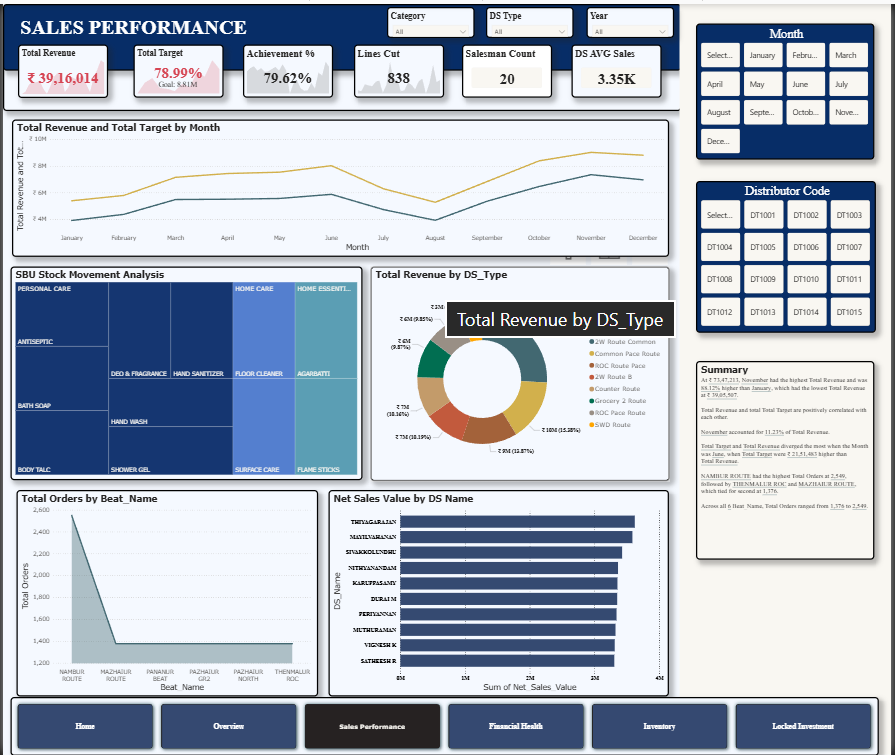

Layout of this report page (visuals, bound fields, positions):
{"tool":"powerbi","page":{"name":"Sales Performance","canvas":[1890,1600],"ordinal":2},"visuals":[{"type":"textbox","box":[0,60,1445,167.5],"z":0},{"type":"shape","box":[0,0,1445,142.2],"z":1000,"group":"g1"},{"type":"textbox","box":[1441.8,0,453.1,1599.1],"z":1000,"group":"g2"},{"type":"treemap","title":"SBU Stock Movement Analysis","fields":{"Group":["Products.SBU","Products.SKU_Name"],"Details":["Products.Sub_Category"],"Values":["Sum(Raw_Sales_Revenue.Net_Sales_Value)"]},"box":[15,560,750,455],"z":1000},{"type":"barChart","title":"Net Sales Value by DS Name","fields":{"Category":["Raw_Sales_Revenue.DS_Name"],"Y":["Sum(Raw_Sales_Revenue.Net_Sales_Value)"]},"box":[695,1035,725,440],"z":2000},{"type":"donutChart","fields":{"Category":["Raw_Sales_Revenue.DS_Type"],"Y":["_Measures.Total Revenue"]},"box":[782.5,560,637.5,457.5],"z":3000},{"type":"lineChart","fields":{"Y":["_Measures.Total Revenue","_Measures.Total Target"],"Category":["Dim_Date.Date.Variation.Date Hierarchy.Month"]},"box":[20,247.5,1400,292.5],"z":4000},{"type":"group","id":"g1","title":"Group 3","box":[0,0,1445,199.3],"z":5000},{"type":"areaChart","fields":{"Category":["Beat.Beat_Name"],"Y":["_Measures.Total Orders"]},"box":[30,1035,642.5,440],"z":6000},{"type":"group","id":"g2","title":"Group 2","box":[1441.8,0,453.1,1599.1],"z":7000},{"type":"advancedSlicerVisual","title":"Month","fields":{"Values":["Dim_Date.Date.Variation.Date Hierarchy.Month"]},"box":[1475.7,40,380,290],"z":8000,"group":"g2"},{"type":"textbox","title":"Summary","box":[1476.7,760,380,423.3],"z":8000},{"type":"slicer","title":"Category","fields":{"Values":["Products.Category"]},"box":[818,6,187,66],"z":9000},{"type":"advancedSlicerVisual","title":"Distributor Code","fields":{"Values":["Distirbutor.Distributor_Code"]},"box":[1475.7,376.7,383.3,323.3],"z":9000,"group":"g2"},{"type":"pageNavigator","box":[15,1475,1850,125],"z":10000},{"type":"slicer","title":"DS Type","fields":{"Values":["Salesman.DS_Type"]},"box":[1029.2,6,187,66],"z":11000},{"type":"slicer","title":"Year","fields":{"Values":["Dim_Date.Year"]},"box":[1244.7,6,187,66],"z":12000},{"type":"textbox","box":[30.8,19.2,523.1,65.4],"z":13000},{"type":"kpi","title":"Total Revenue","fields":{"Indicator":["_Measures.Total Revenue"],"TrendLine":["Dim_Date.Date"],"Goal":["_Measures.Total Target"]},"box":[30.9,85.3,192,114],"z":18002,"group":"g1"},{"type":"cardVisual","title":"Salesman Count","fields":{"Data":["_Measures.Total Salesman"]},"box":[978.4,85.4,191.7,113.2],"z":18502,"group":"g1"},{"type":"kpi","title":"Lines Cut","fields":{"TrendLine":["Dim_Date.Date"],"Indicator":["_Measures.Lines Cut"]},"box":[748.3,85.5,191.7,113.2],"z":19002,"group":"g1"},{"type":"kpi","title":"Achievement %","fields":{"Indicator":["_Measures.Achievement %"],"TrendLine":["Dim_Date.Date"]},"box":[510.4,85.5,191.7,113.2],"z":19502,"group":"g1"},{"type":"kpi","title":"Total Target","fields":{"TrendLine":["Dim_Date.Date.Variation.Date Hierarchy.Month"],"Indicator":["_Measures.Achievement %"],"Goal":["Sum(Raw_Sales_Revenue.Target_Value)"]},"box":[277.1,85.5,191.7,113.2],"z":20002,"group":"g1"},{"type":"cardVisual","title":"DS AVG Sales ","fields":{"Data":["_Measures.Avg Order Value per DS"]},"box":[1210.2,85.5,191.7,113.2],"z":20502,"group":"g1"}]}

Visuals, with their boxes in screenshot pixels (x1, y1, x2, y2), scaled from the page's 1890x1600 canvas onto the 895x755 screenshot:
textbox: [0,28,684,107]
shape: [0,0,684,67]
textbox: [683,0,894,754]
"SBU Stock Movement Analysis" treemap: [7,264,362,479]
"Net Sales Value by DS Name" barChart: [329,488,672,696]
donutChart - Raw_Sales_Revenue.DS_Type x _Measures.Total Revenue: [371,264,672,480]
lineChart - _Measures.Total Revenue x _Measures.Total Target: [9,117,672,255]
"Group 3" group: [0,0,684,94]
areaChart - Beat.Beat_Name x _Measures.Total Orders: [14,488,318,696]
"Group 2" group: [683,0,894,754]
"Month" advancedSlicerVisual: [699,19,879,156]
"Summary" textbox: [699,359,879,558]
"Category" slicer: [387,3,476,34]
"Distributor Code" advancedSlicerVisual: [699,178,880,330]
pageNavigator: [7,696,883,754]
"DS Type" slicer: [487,3,576,34]
"Year" slicer: [589,3,678,34]
textbox: [15,9,262,40]
"Total Revenue" kpi: [15,40,106,94]
"Salesman Count" cardVisual: [463,40,554,94]
"Lines Cut" kpi: [354,40,445,94]
"Achievement %" kpi: [242,40,332,94]
"Total Target" kpi: [131,40,222,94]
"DS AVG Sales " cardVisual: [573,40,664,94]
